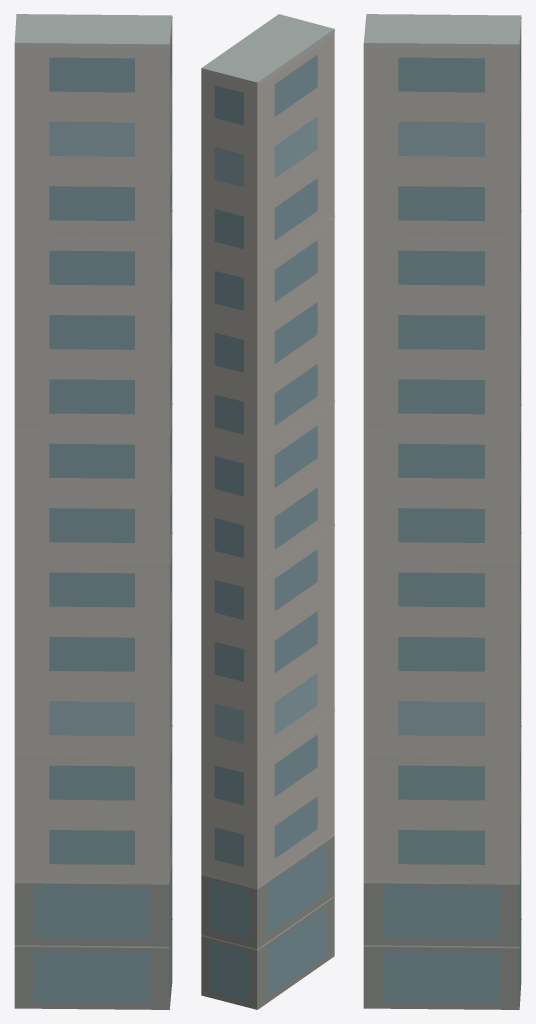
Rendered from survey-upis-32908866.glb.
The picture shows the model from 3 angles, left to right: view 1: azimuth 90°, elevation 25°; view 2: azimuth 150°, elevation 25°; view 3: azimuth 270°, elevation 25°; orthographic projection. The views are drawn at different scales.
Parts seen in each view (by area): view 1: survey-upis-32908866.tmp; view 2: survey-upis-32908866.tmp; view 3: survey-upis-32908866.tmp.
Part boxes in pixels (x1=…): survey-upis-32908866.tmp: x1=14, y1=14, x2=172, y2=1009; survey-upis-32908866.tmp: x1=201, y1=14, x2=334, y2=1009; survey-upis-32908866.tmp: x1=363, y1=14, x2=521, y2=1009.
Size of the model in its own units: 3.11 by 45.75 by 6.79.
